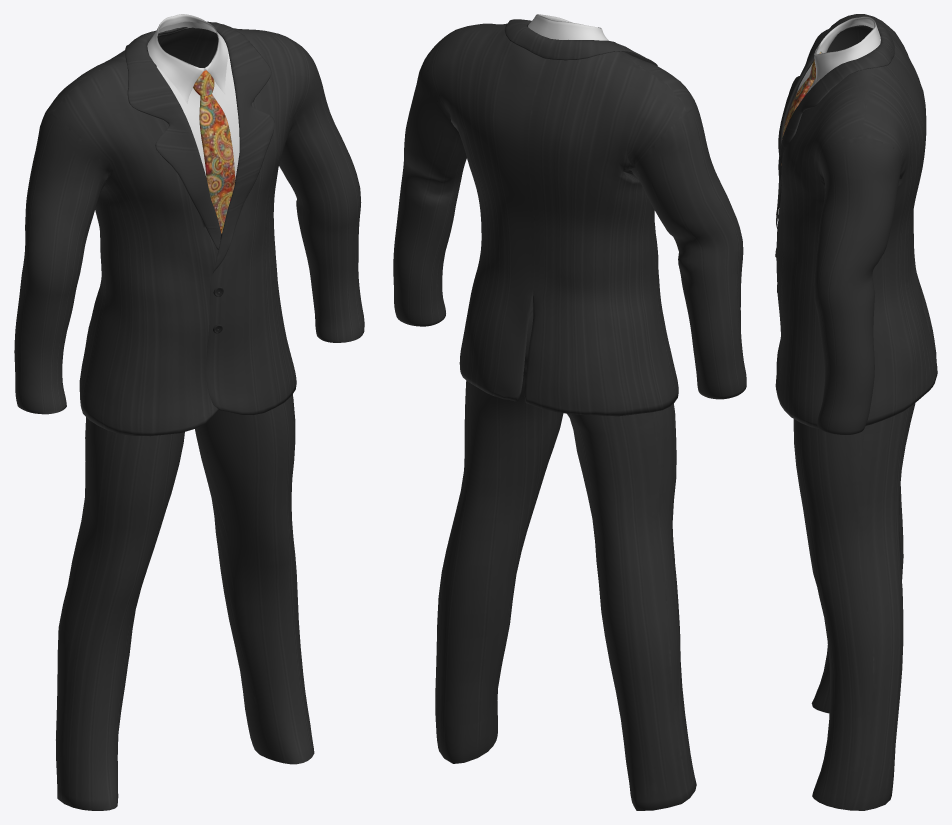
The model's file is toigo-male-suit-tie-and-jacket.glb.
3 renders of one model, left to right at view 1: azimuth 30°, elevation 25°; view 2: azimuth 150°, elevation 25°; view 3: azimuth 270°, elevation 25°, orthographic. The views are drawn at different scales.
Visible parts, largest first — view 1: Human.toigo_male_suit_tie_and_jacket; view 2: Human.toigo_male_suit_tie_and_jacket; view 3: Human.toigo_male_suit_tie_and_jacket.
Boxes of the visible parts, x1,y1,x2,y2 form: Human.toigo_male_suit_tie_and_jacket: (14,14,364,810); Human.toigo_male_suit_tie_and_jacket: (393,14,746,810); Human.toigo_male_suit_tie_and_jacket: (775,14,937,810).
Bounding box in the file's own units: 0.751 × 1.58 × 0.3176.
1 material, 1 textured.
